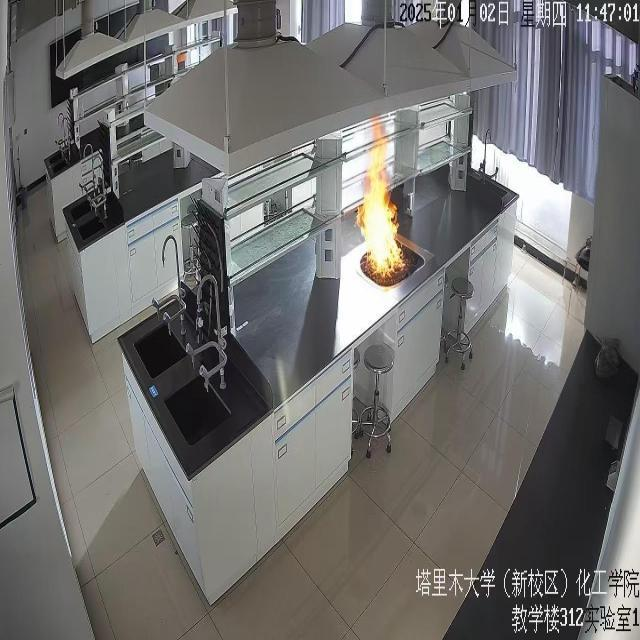smoke: (356, 120, 406, 278)
